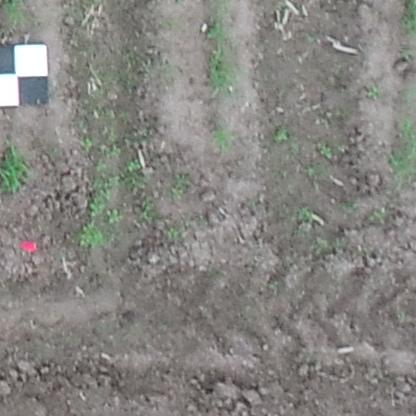corn: (1, 145, 33, 194), (385, 144, 416, 181)
